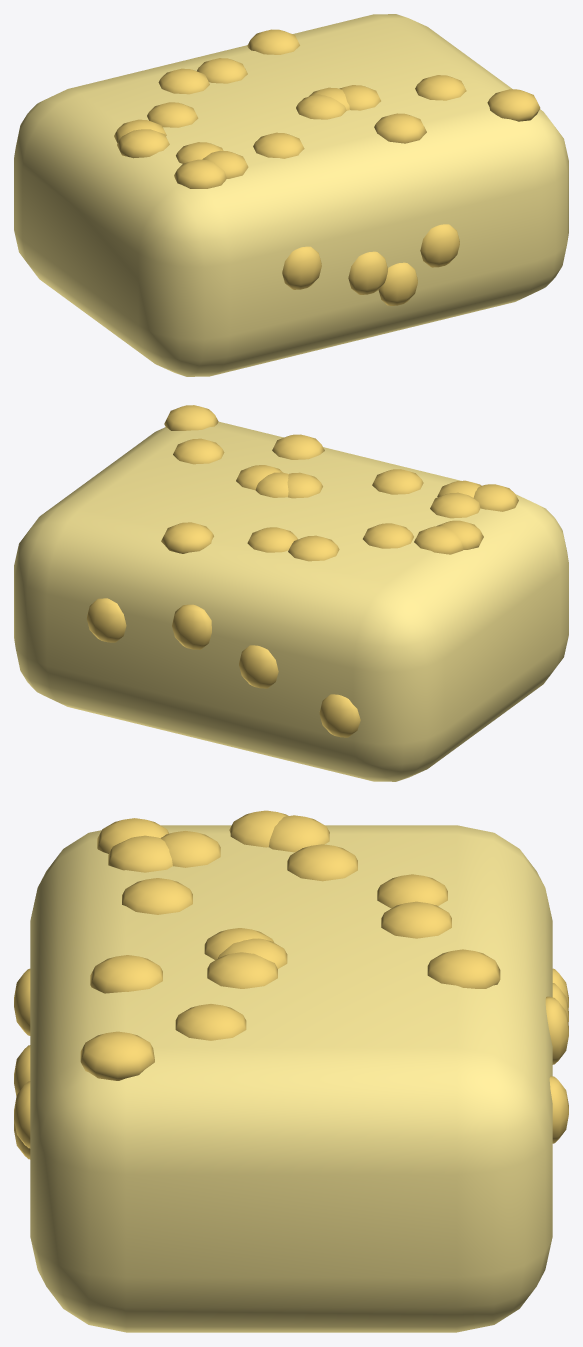
The model's file is Tool_Sponge.fbx.
3 renders of one model, top to bottom at view 1: azimuth 30°, elevation 25°; view 2: azimuth 150°, elevation 25°; view 3: azimuth 270°, elevation 25°, orthographic. The views are drawn at different scales.
Parts seen in each view (by area): view 1: Tool_Sponge; view 2: Tool_Sponge; view 3: Tool_Sponge.
Boxes of the visible parts, left/top/right/bottom form: Tool_Sponge: left=14, top=14, right=568, bottom=376; Tool_Sponge: left=14, top=405, right=568, bottom=781; Tool_Sponge: left=14, top=810, right=568, bottom=1332.
Size of the model in its own units: 0.08 by 0.037 by 0.0638.
